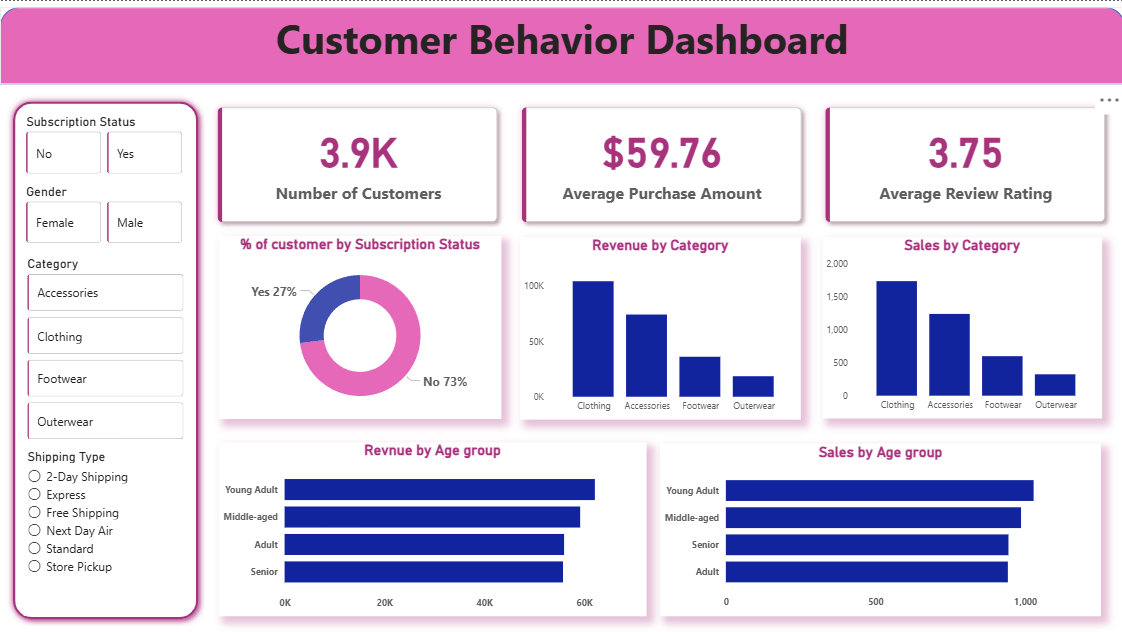

The page's visual inventory and layout, read from the dashboard file:
{"tool":"powerbi","page":{"name":"Page 1","canvas":[1500,850],"ordinal":0},"visuals":[{"type":"cardVisual","fields":{"Data":["public customer.Number of Customers","public customer.Average Purchase Amount","public customer.Average Review Rating"]},"box":[272.9,125.7,1218.6,187.1],"z":0},{"type":"shape","box":[0,8.6,1500,102.9],"z":1000},{"type":"textbox","box":[0,8.6,1500,102.9],"z":2000},{"type":"donutChart","title":"% of customer by Subscription Status","fields":{"Category":["public customer.subscription_status"],"Y":["CountNonNull(public customer.customer_id)"]},"box":[291.4,312.9,377.1,244.3],"z":3000},{"type":"clusteredColumnChart","title":"Revenue by Category","fields":{"Y":["Sum(public customer.purchase_amount)"],"Category":["public customer.category"]},"box":[692.9,314.3,374.3,242.9],"z":4000},{"type":"clusteredColumnChart","title":"Sales by Category","fields":{"Y":["CountNonNull(public customer.customer_id)"],"Category":["public customer.category"]},"box":[1097.1,315.7,372.9,241.4],"z":5000},{"type":"shape","box":[8.3,125,265,708.3],"z":6000},{"type":"advancedSlicerVisual","title":"Subscription Status","fields":{"Values":["public customer.subscription_status"]},"box":[30,150,218.6,85.7],"z":7000},{"type":"advancedSlicerVisual","title":"Gender","fields":{"Values":["public customer.gender"]},"box":[30,242.9,218.6,84.3],"z":8000},{"type":"advancedSlicerVisual","title":"Category","fields":{"Values":["public customer.category"]},"box":[31.4,340,218.6,252.9],"z":9000},{"type":"listSlicer","title":"Shipping Type","fields":{"Values":["public customer.shipping_type"]},"box":[31.4,597.1,217.1,222.9],"z":10000},{"type":"clusteredBarChart","title":"Revnue by Age group","fields":{"Y":["Sum(public customer.purchase_amount)"],"Category":["public customer.age_group"]},"box":[292,588,570,232],"z":11000},{"type":"clusteredBarChart","title":"Sales by Age group","fields":{"Category":["public customer.age_group"],"Y":["CountNonNull(public customer.customer_id)"]},"box":[880,590,588,230],"z":12000}]}

Visuals, with their boxes in screenshot pixels (x1, y1, x2, y2), scaled from the page's 1500x850 canvas onto the 1122x632 screenshot:
cardVisual - public customer.Number of Customers x public customer.Average Purchase Amount: bbox=[204, 93, 1116, 233]
shape: bbox=[0, 6, 1121, 83]
textbox: bbox=[0, 6, 1121, 83]
"% of customer by Subscription Status" donutChart: bbox=[218, 233, 500, 414]
"Revenue by Category" clusteredColumnChart: bbox=[518, 234, 798, 414]
"Sales by Category" clusteredColumnChart: bbox=[821, 235, 1100, 414]
shape: bbox=[6, 93, 204, 620]
"Subscription Status" advancedSlicerVisual: bbox=[22, 112, 186, 175]
"Gender" advancedSlicerVisual: bbox=[22, 181, 186, 243]
"Category" advancedSlicerVisual: bbox=[23, 253, 187, 441]
"Shipping Type" listSlicer: bbox=[23, 444, 186, 610]
"Revnue by Age group" clusteredBarChart: bbox=[218, 437, 645, 610]
"Sales by Age group" clusteredBarChart: bbox=[658, 439, 1098, 610]
